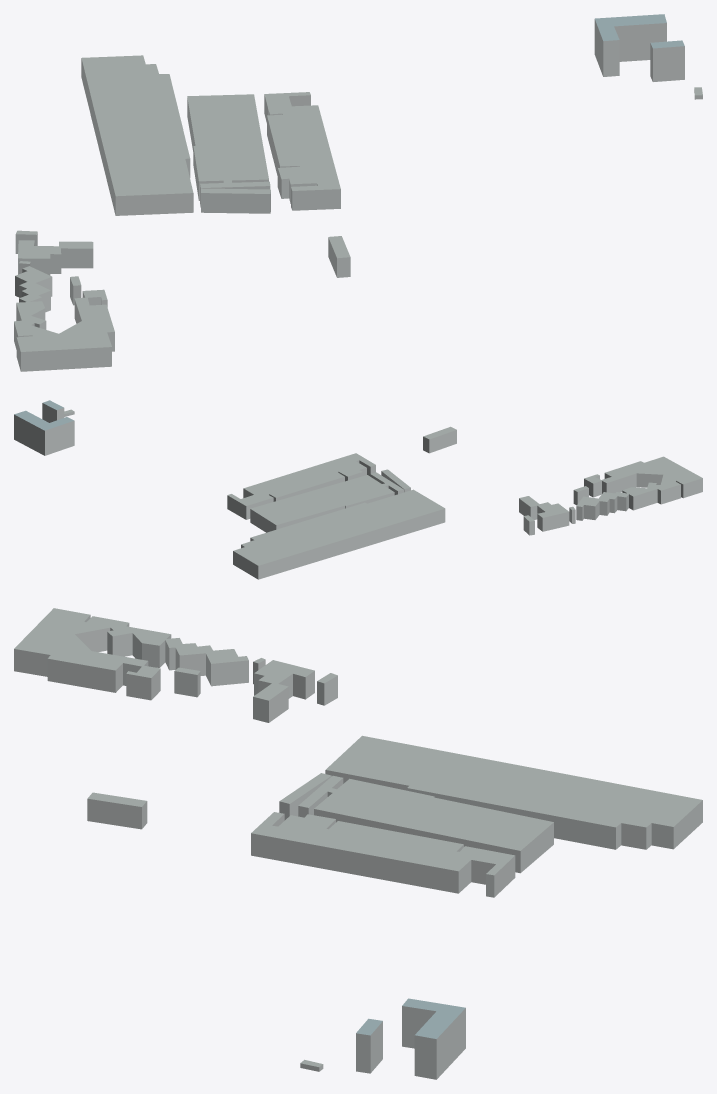
The picture shows the model from 3 angles, top to bottom: view 1: azimuth 30°, elevation 25°; view 2: azimuth 150°, elevation 25°; view 3: azimuth 270°, elevation 25°; orthographic projection. The views are drawn at different scales.
Parts seen in each view (by area): view 1: 上海全域建筑分块 · mapped building neighborhood; view 2: 上海全域建筑分块 · mapped building neighborhood; view 3: 上海全域建筑分块 · mapped building neighborhood.
Part boxes in pixels (x1=…): 上海全域建筑分块 · mapped building neighborhood: x1=14, y1=14, x2=702, y2=371; 上海全域建筑分块 · mapped building neighborhood: x1=14, y1=400, x2=702, y2=579; 上海全域建筑分块 · mapped building neighborhood: x1=14, y1=608, x2=702, y2=1079.
Size of the model in its own units: 517 by 21.8 by 335.
